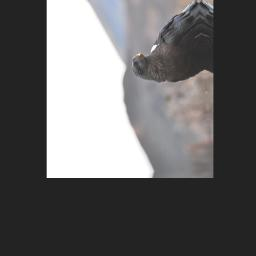Crow: (124, 0, 205, 87)
